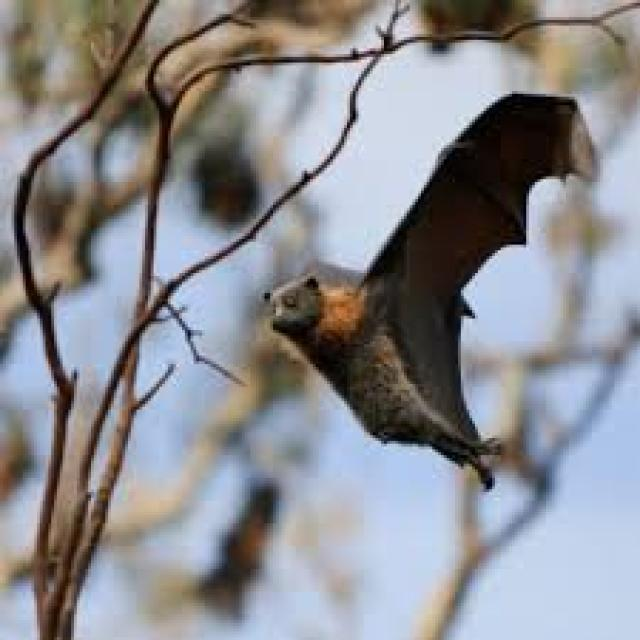Bat: (258, 87, 580, 497)
